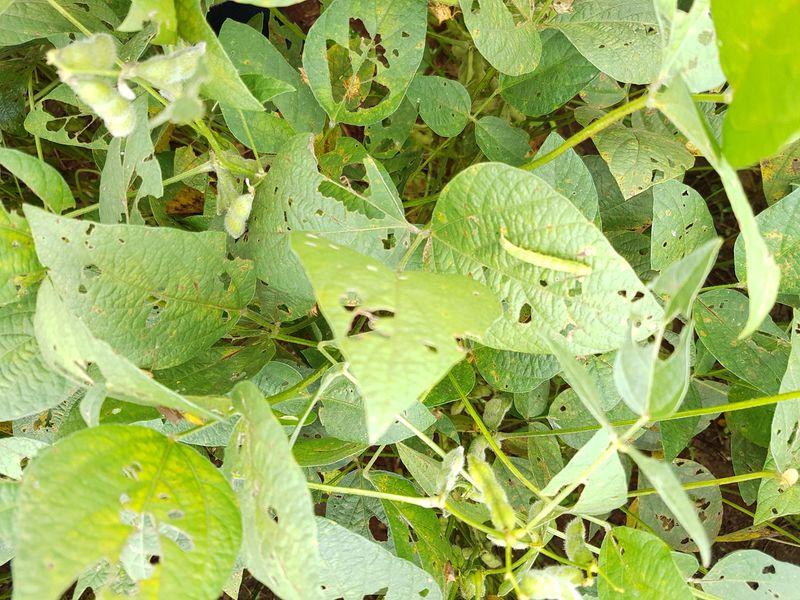Anticarsia_gemmatalis: (488, 227, 599, 291)
Euschistus_heros_adulto: (148, 400, 188, 431), (337, 68, 369, 106), (422, 1, 464, 29), (290, 61, 323, 95), (437, 554, 464, 588)
